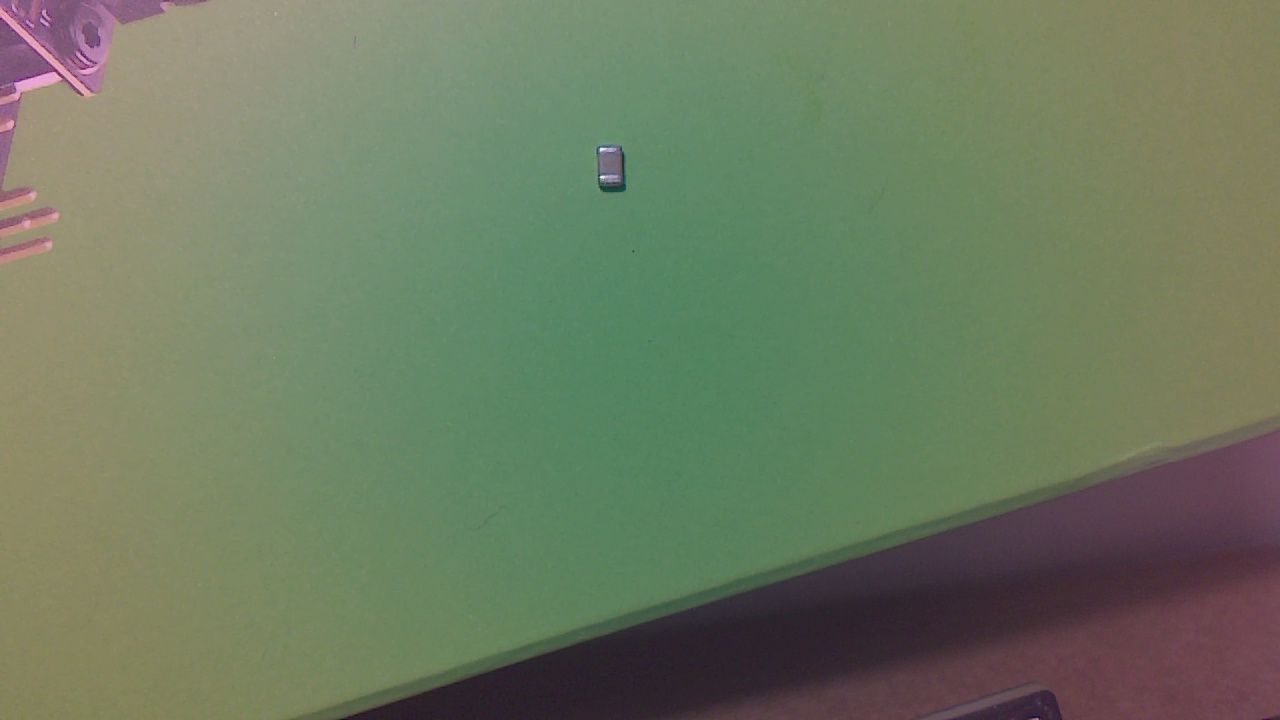Condensator: (599, 147, 631, 195)
